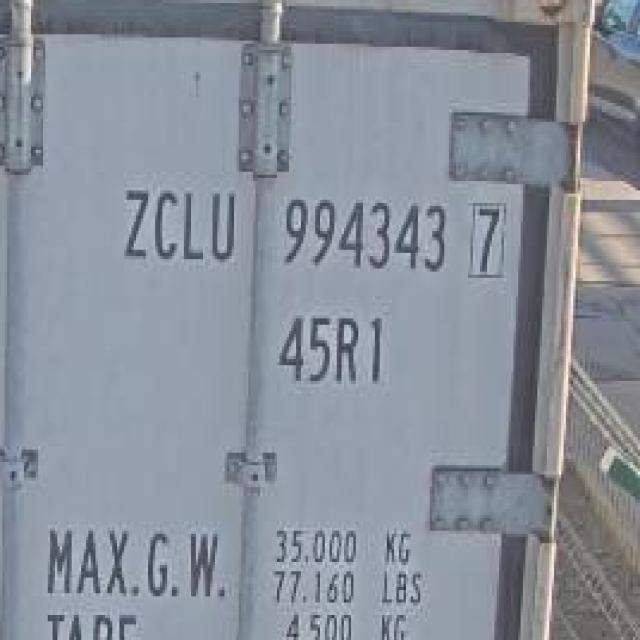dv: (463, 191, 509, 282)
owner: (114, 176, 240, 264)
serial: (281, 186, 448, 284)
size: (268, 299, 400, 395)
